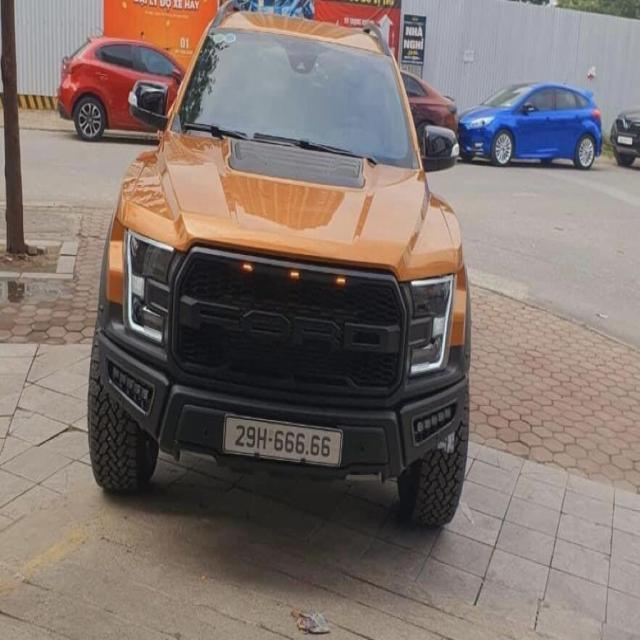car: (102, 5, 470, 523), (434, 1, 629, 178), (53, 1, 229, 149)
plate: (219, 416, 347, 469)
